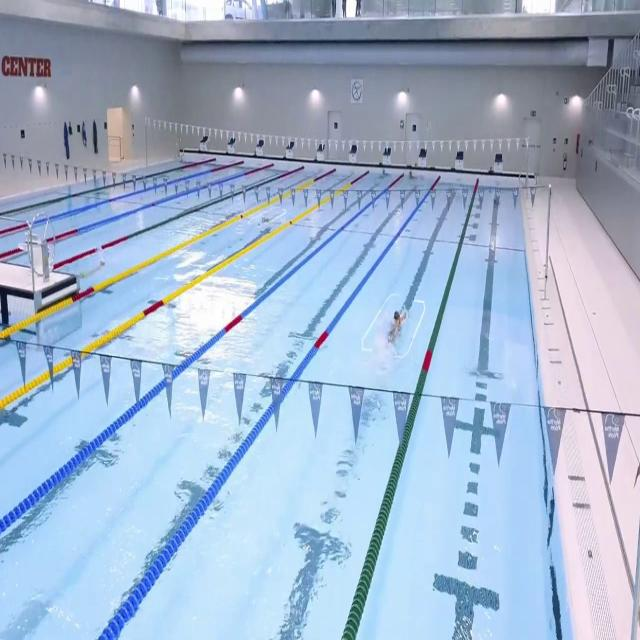Swimming: (66, 254, 115, 280), (251, 210, 291, 232), (387, 309, 408, 346)
